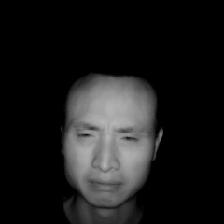sad: (48, 53, 163, 209)
